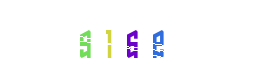1: (90, 0, 170, 80)
6: (92, 0, 172, 80)
9: (52, 0, 132, 80)
E: (114, 0, 194, 80)
